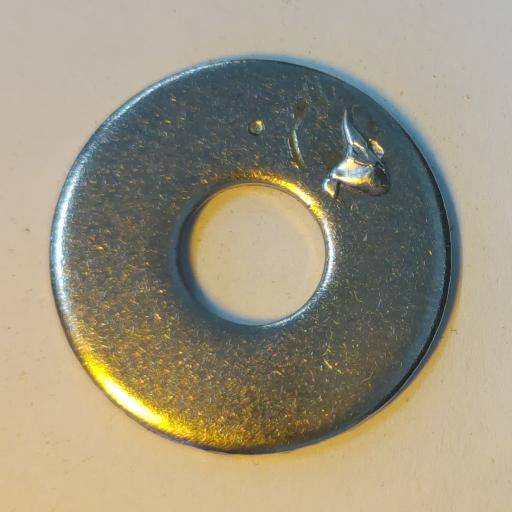excess_material: (322, 109, 391, 200)
